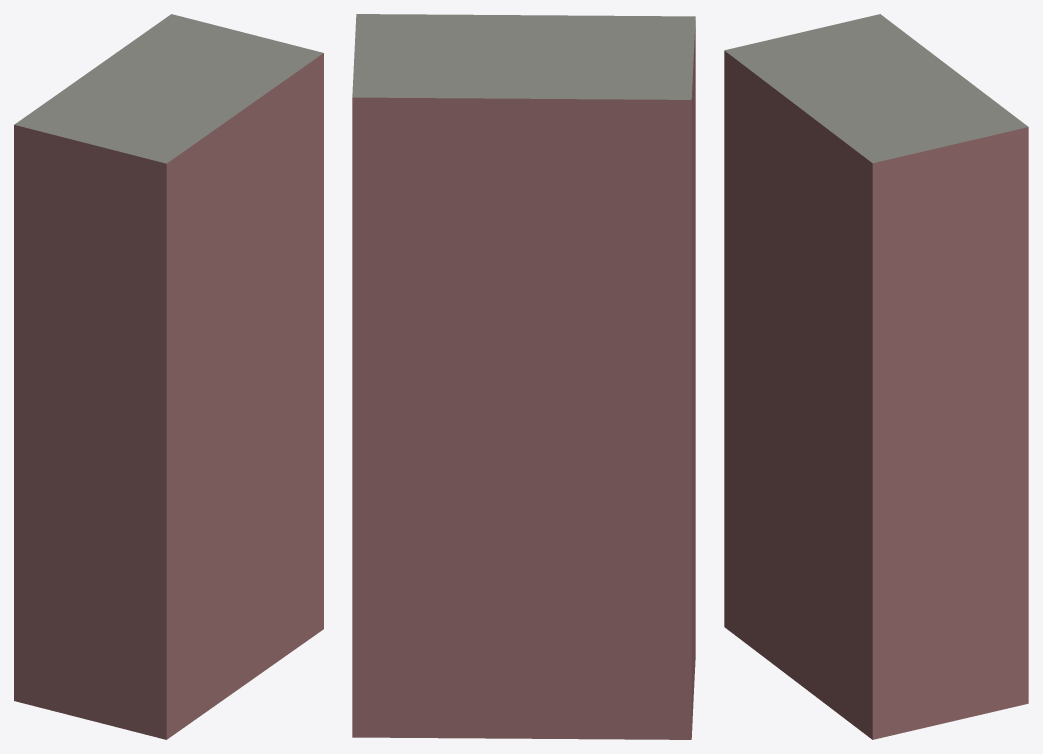
Rendered from nyc-1034217-0.glb.
3 renders of one model, left to right at view 1: azimuth 30°, elevation 25°; view 2: azimuth 150°, elevation 25°; view 3: azimuth 270°, elevation 25°, orthographic. The views are drawn at different scales.
Parts seen in each view (by area): view 1: nyc-1034217-0; view 2: nyc-1034217-0; view 3: nyc-1034217-0.
Boxes of the visible parts, x1=… form: nyc-1034217-0: x1=14, y1=14, x2=323, y2=739; nyc-1034217-0: x1=352, y1=14, x2=695, y2=739; nyc-1034217-0: x1=724, y1=14, x2=1028, y2=739.
Size of the model in its own units: 44 by 79.22 by 37.92.
